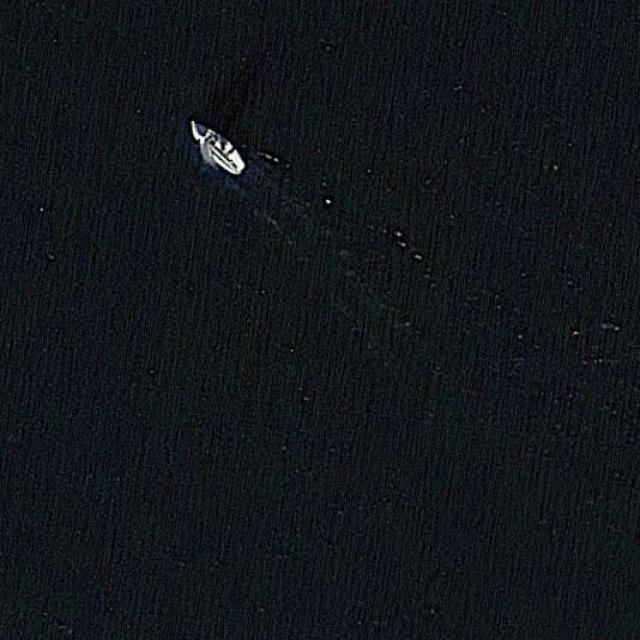boat: (189, 120, 247, 176)
